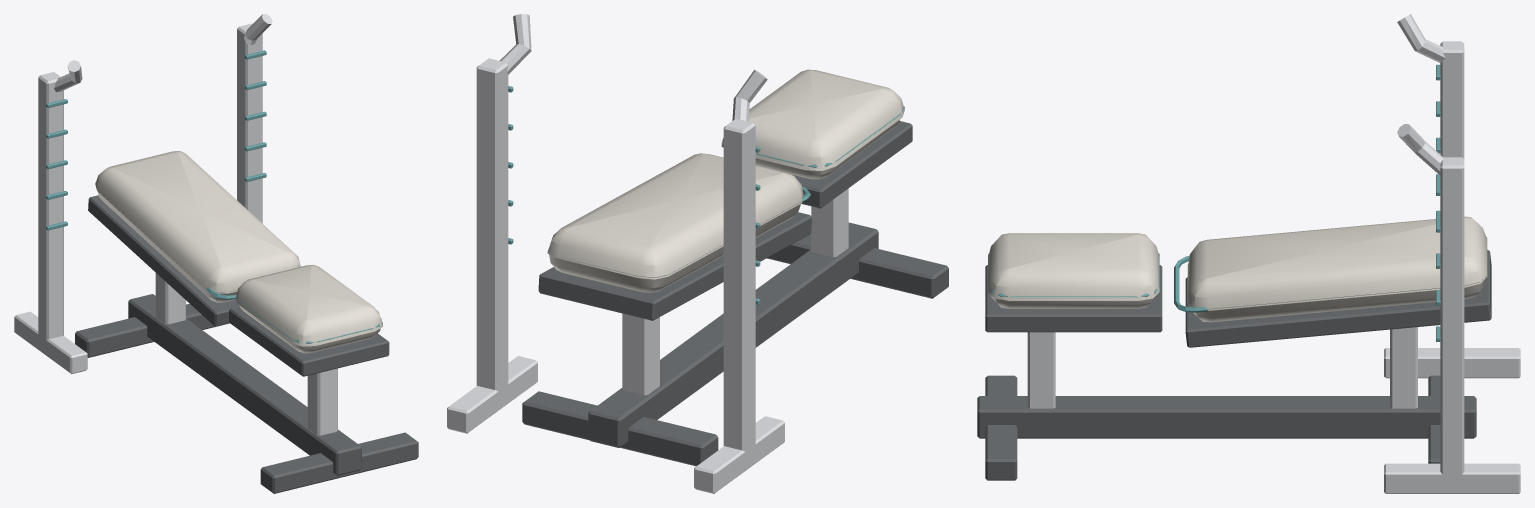
Rendered from benchpress.glb.
3 renders of one model, left to right at view 1: azimuth 30°, elevation 25°; view 2: azimuth 150°, elevation 25°; view 3: azimuth 270°, elevation 25°, orthographic. The views are drawn at different scales.
Parts seen in each view (by area): view 1: weight-bench; view 2: weight-bench; view 3: weight-bench.
Boxes of the visible parts, x1,y1,x2,y2 form: weight-bench: (14, 14, 418, 493); weight-bench: (447, 14, 948, 493); weight-bench: (977, 14, 1520, 493).
Bounding box in the file's own units: 0.75 × 1.01 × 1.35.
